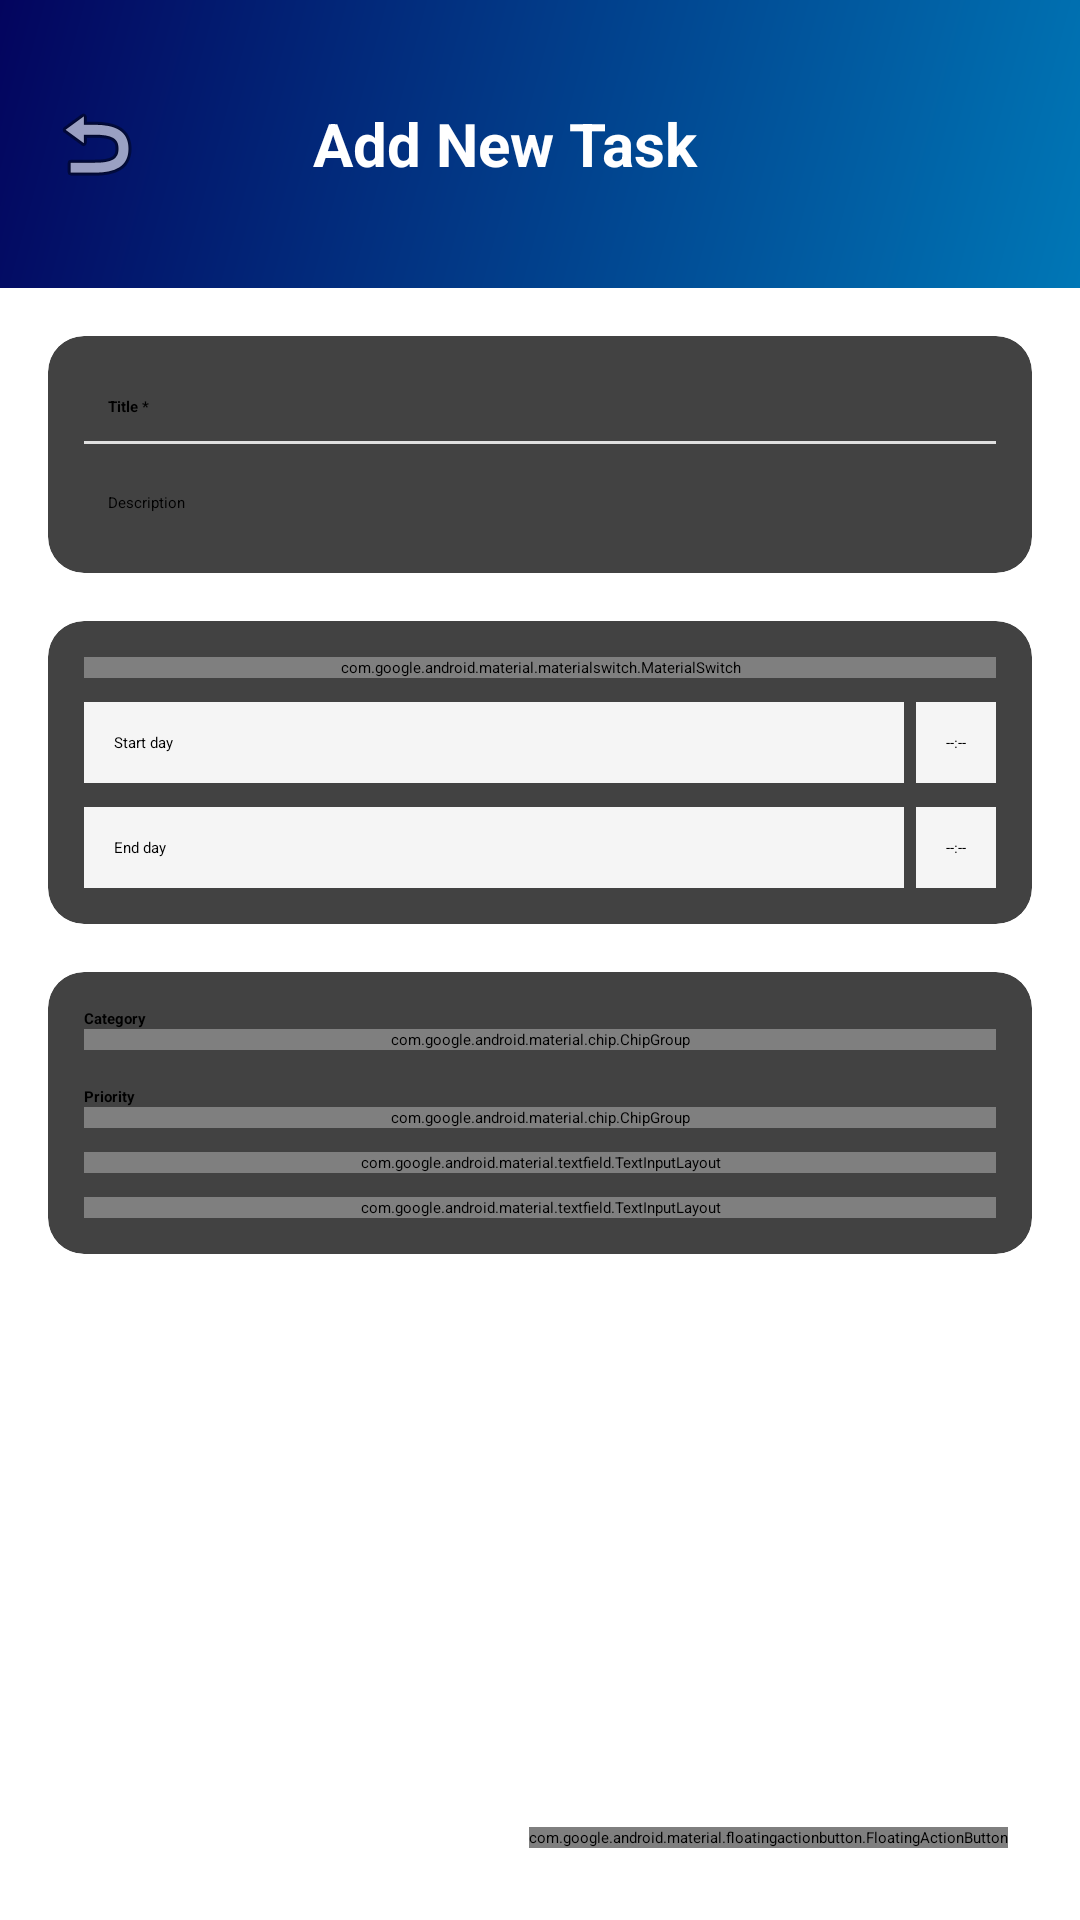

Icon click points for this 1080x1920 phone screenshot, format point (x, y):
revert: point (97, 145)
